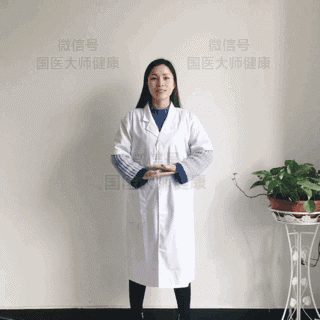other: (106, 56, 217, 316)
